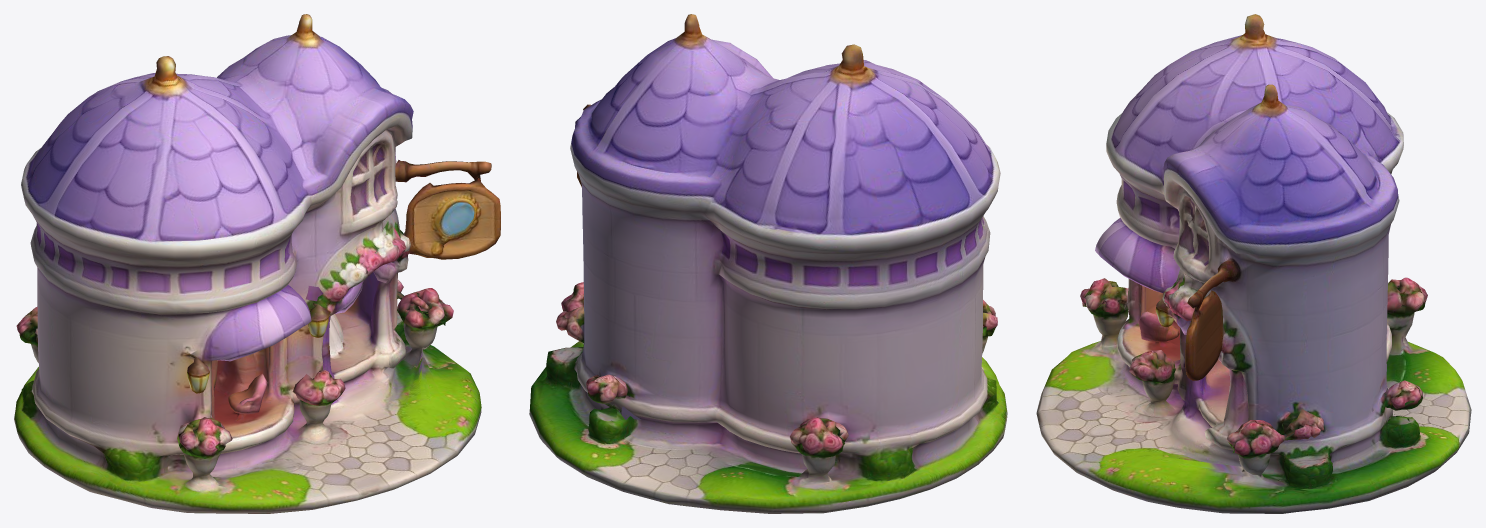
The model's file is 08-salon-wedding.glb.
The picture shows the model from 3 angles, left to right: view 1: azimuth 30°, elevation 25°; view 2: azimuth 150°, elevation 25°; view 3: azimuth 270°, elevation 25°; orthographic projection. The views are drawn at different scales.
Parts seen in each view (by area): view 1: tripo_node_e6d6bd7d-97c2-4035-96b1-bd8d6ae4e407; view 2: tripo_node_e6d6bd7d-97c2-4035-96b1-bd8d6ae4e407; view 3: tripo_node_e6d6bd7d-97c2-4035-96b1-bd8d6ae4e407.
Part boxes in pixels (box(x1,y1,x2,y2)): tripo_node_e6d6bd7d-97c2-4035-96b1-bd8d6ae4e407: box(14, 14, 500, 513); tripo_node_e6d6bd7d-97c2-4035-96b1-bd8d6ae4e407: box(529, 14, 1007, 513); tripo_node_e6d6bd7d-97c2-4035-96b1-bd8d6ae4e407: box(1036, 14, 1471, 513).
Size of the model in its own units: 0.9756 by 0.8429 by 0.9023.
1 material, 1 textured.
